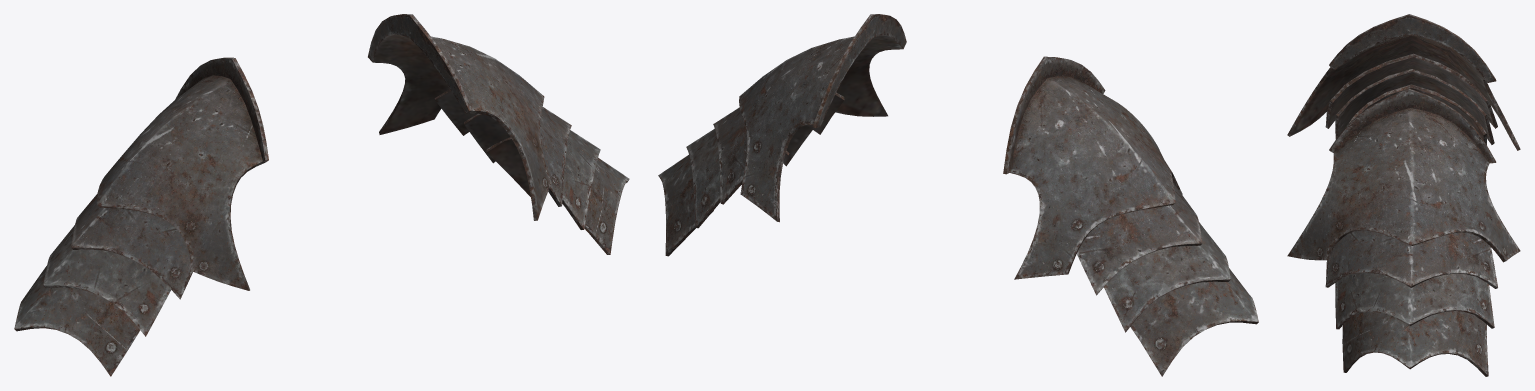
The model's file is sk_gb_uruk_pauldron_elite_b.fbx.
The picture shows the model from 3 angles, left to right: view 1: azimuth 30°, elevation 25°; view 2: azimuth 150°, elevation 25°; view 3: azimuth 270°, elevation 25°; orthographic projection. The views are drawn at different scales.
Visible parts, largest first — view 1: sk_gb_uruk_pauldron_elite_b; view 2: sk_gb_uruk_pauldron_elite_b; view 3: sk_gb_uruk_pauldron_elite_b.
Part boxes in pixels (box(x1,y1,x2,y2)): sk_gb_uruk_pauldron_elite_b: box(14, 14, 629, 376); sk_gb_uruk_pauldron_elite_b: box(658, 14, 1258, 376); sk_gb_uruk_pauldron_elite_b: box(1287, 14, 1520, 376).
Bounding box in the file's own units: 0.8552 × 0.327 × 0.3385.
1 material, 1 textured.
